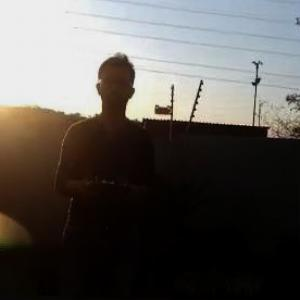follow: (47, 44, 160, 299)
